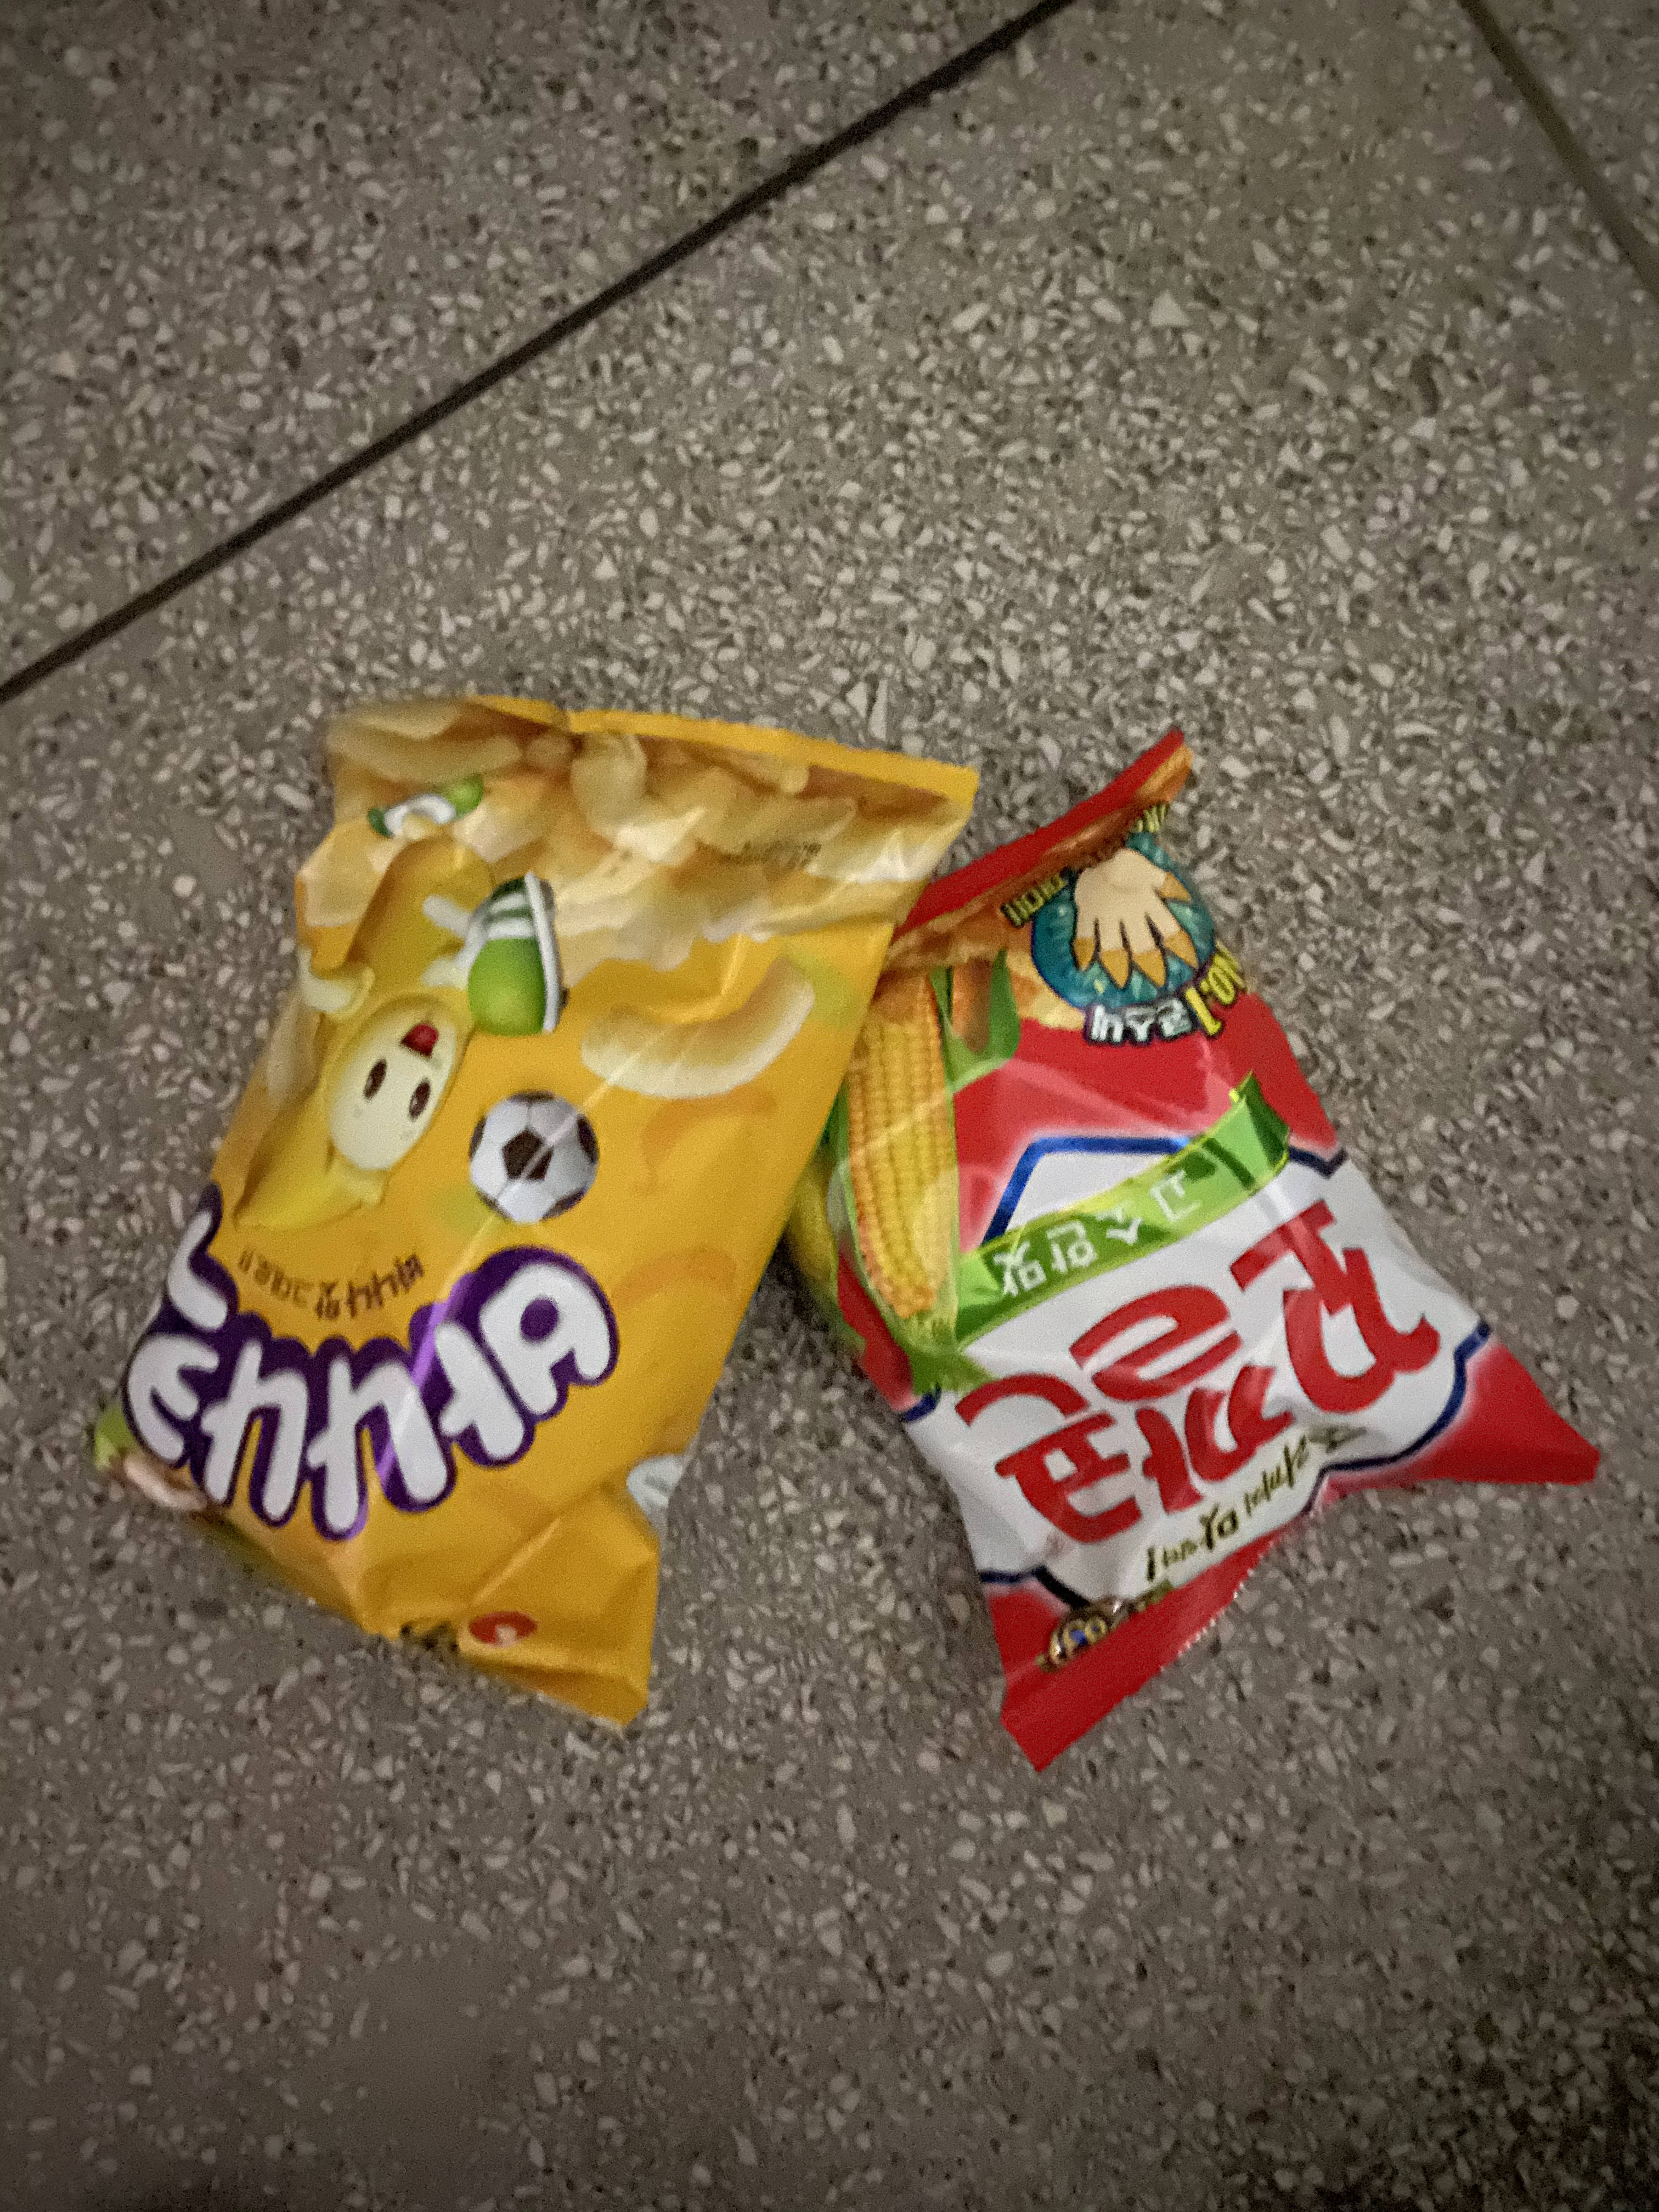banana: (85, 672, 990, 1752)
ggoggalcon: (728, 704, 1621, 1780)
